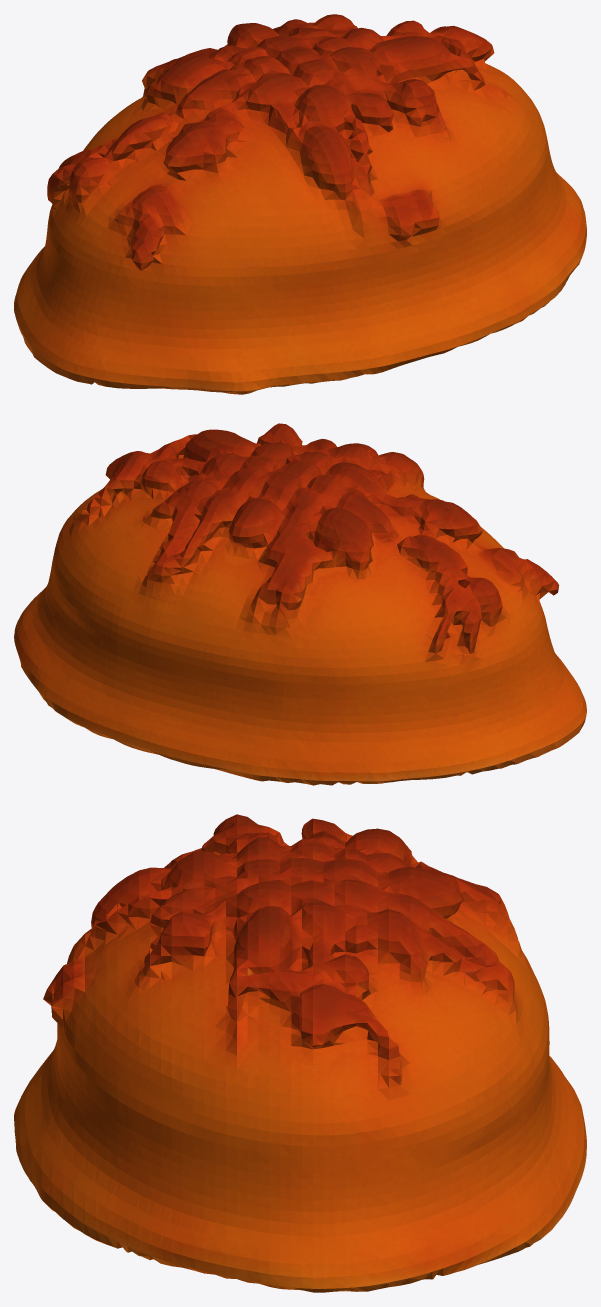
3 views of the same model, one above another, from view 1: azimuth 30°, elevation 25°; view 2: azimuth 150°, elevation 25°; view 3: azimuth 270°, elevation 25° (orthographic). The views are drawn at different scales.
Parts seen in each view (by area): view 1: Hy21_Mesh.obj; view 2: Hy21_Mesh.obj; view 3: Hy21_Mesh.obj.
Boxes of the visible parts, bbox=[...] form: Hy21_Mesh.obj: bbox=[14, 14, 586, 394]; Hy21_Mesh.obj: bbox=[14, 423, 586, 785]; Hy21_Mesh.obj: bbox=[14, 814, 586, 1292].
Bounding box in the file's own units: 0.5617 × 0.2351 × 0.4148.
1 material, 1 textured.
